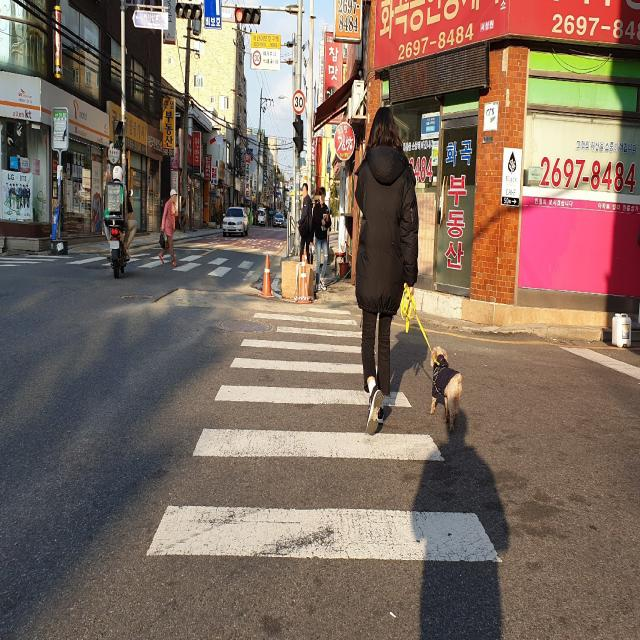횡단보도: (144, 303, 506, 566), (67, 244, 276, 277)
